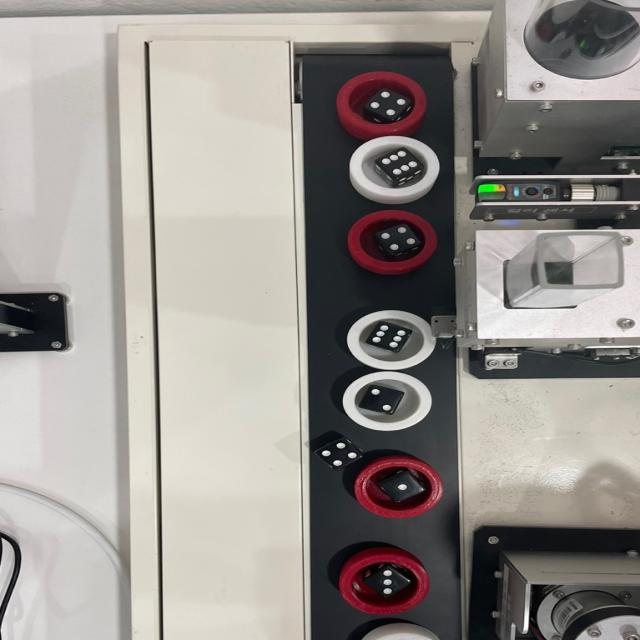DICE1: (392, 476, 414, 496)
DICE2: (362, 386, 398, 414)
DICE3: (373, 570, 401, 597)
DICE4: (364, 89, 411, 120), (377, 224, 419, 252), (319, 442, 358, 466)
DICE5: (380, 149, 420, 176)
DICE6: (370, 323, 410, 349)
RedChip: (335, 71, 436, 133), (339, 555, 426, 614), (353, 460, 442, 516)
WhiteChip: (348, 210, 436, 274), (346, 135, 440, 194), (342, 372, 434, 432), (349, 309, 435, 369)
